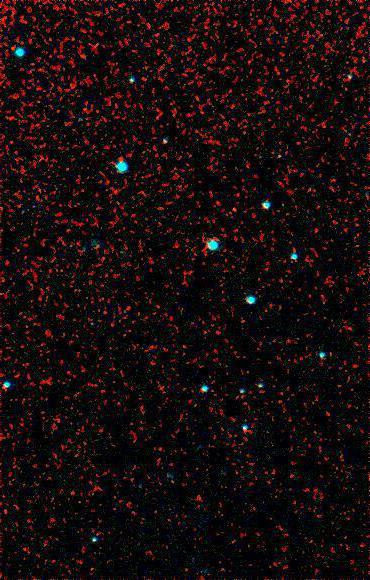star: (186, 481, 216, 511)
